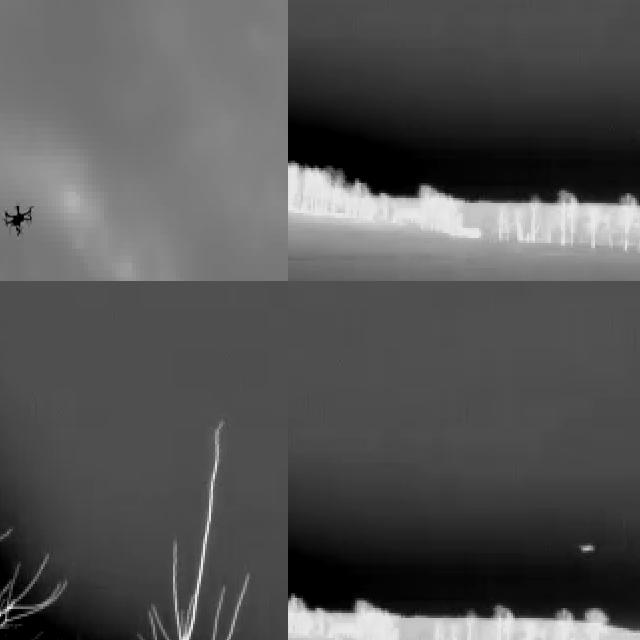1: (570, 534, 608, 570)
drone: (1, 200, 36, 236)
